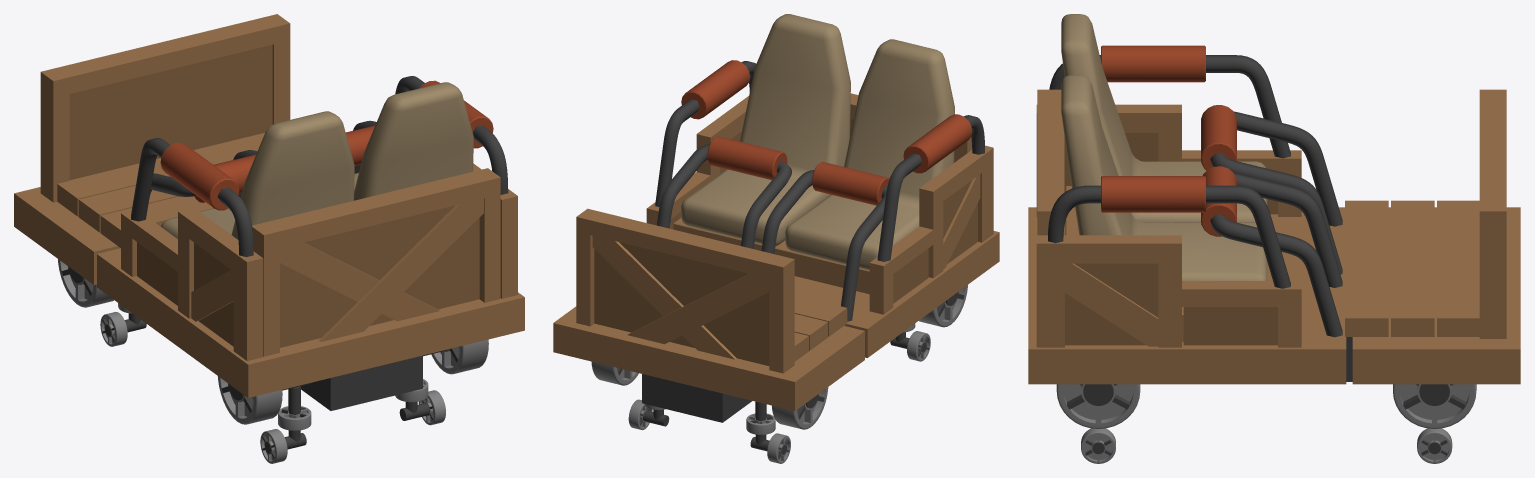
Rendered from StylizedCart.glb.
3 renders of one model, left to right at view 1: azimuth 30°, elevation 25°; view 2: azimuth 150°, elevation 25°; view 3: azimuth 270°, elevation 25°, orthographic. The views are drawn at different scales.
Parts seen in each view (by area): view 1: StylizedCart_Merged; view 2: StylizedCart_Merged; view 3: StylizedCart_Merged.
Part boxes in pixels (box(x1,y1,x2,y2)): StylizedCart_Merged: box(14, 14, 524, 463); StylizedCart_Merged: box(553, 14, 999, 463); StylizedCart_Merged: box(1028, 14, 1520, 463).
Size of the model in its own units: 1.54 by 1.79 by 2.2.
1 material, 1 textured.
